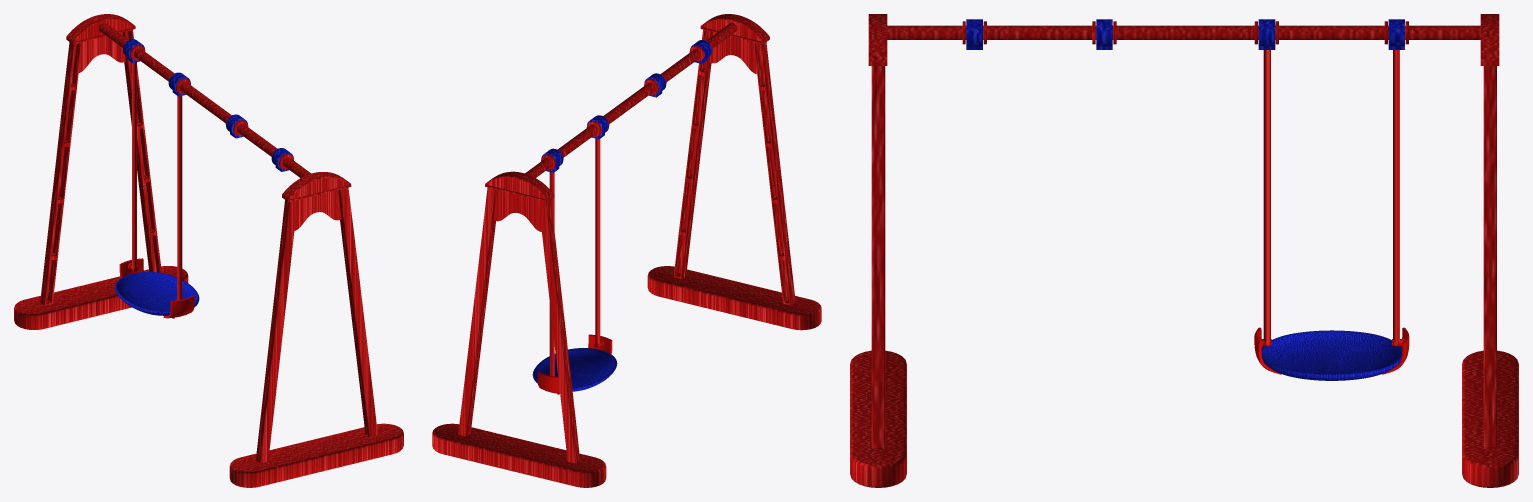
The picture shows the model from 3 angles, left to right: view 1: azimuth 30°, elevation 25°; view 2: azimuth 150°, elevation 25°; view 3: azimuth 270°, elevation 25°; orthographic projection. The views are drawn at different scales.
Parts seen in each view (by area): view 1: poles, holder, top_pole, sit_2, side_top, Subdivision_Surface_1_2, dcr, Subdivision_Surface_2, swing_2_2, swing_2; view 2: poles, holder, top_pole, side_top, dcr, sit_2, Subdivision_Surface_1_2, Subdivision_Surface_2, swing_2_2, swing_2; view 3: holder, poles, top_pole, sit_2, Subdivision_Surface_1_2, side_top, swing_2_2, swing_2.
Boxes of the visible parts, bbox=[...] form: poles: bbox=[40, 29, 377, 463]; holder: bbox=[14, 266, 403, 487]; top_pole: bbox=[99, 22, 310, 177]; sit_2: bbox=[115, 272, 199, 315]; side_top: bbox=[66, 14, 351, 201]; Subdivision_Surface_1_2: bbox=[130, 62, 182, 300]; dcr: bbox=[73, 32, 341, 230]; Subdivision_Surface_2: bbox=[119, 258, 194, 318]; swing_2_2: bbox=[123, 39, 190, 96]; swing_2: bbox=[226, 114, 293, 171]; poles: bbox=[458, 29, 795, 463]; holder: bbox=[432, 266, 821, 487]; top_pole: bbox=[525, 22, 737, 177]; side_top: bbox=[485, 14, 769, 201]; dcr: bbox=[493, 32, 761, 231]; sit_2: bbox=[532, 348, 617, 391]; Subdivision_Surface_1_2: bbox=[549, 138, 601, 376]; Subdivision_Surface_2: bbox=[537, 334, 612, 393]; swing_2_2: bbox=[541, 115, 608, 172]; swing_2: bbox=[644, 40, 711, 97]; holder: bbox=[850, 350, 1518, 487]; poles: bbox=[871, 66, 1496, 448]; top_pole: bbox=[887, 21, 1480, 44]; sit_2: bbox=[1261, 330, 1402, 380]; Subdivision_Surface_1_2: bbox=[1261, 50, 1401, 346]; side_top: bbox=[868, 14, 1499, 65]; swing_2_2: bbox=[1258, 19, 1404, 49]; swing_2: bbox=[966, 19, 1112, 49].
Size of the model in its own units: 29.26 by 47.84 by 70.74.
3 materials, 2 textured.
